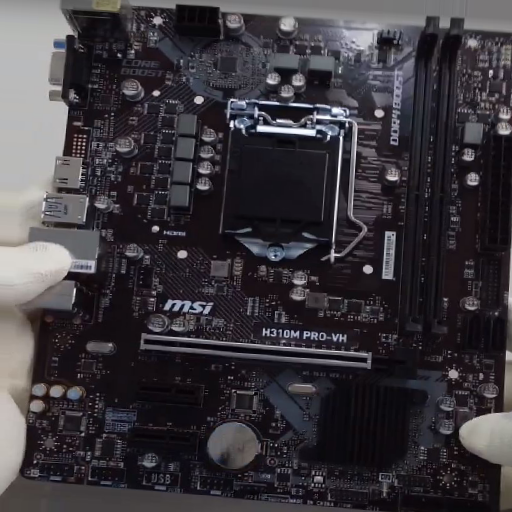CPU: (220, 100, 349, 259)
GPU: (140, 334, 419, 376)
MOTHERBOARD: (24, 6, 511, 512)
RAM: (404, 15, 466, 337)
